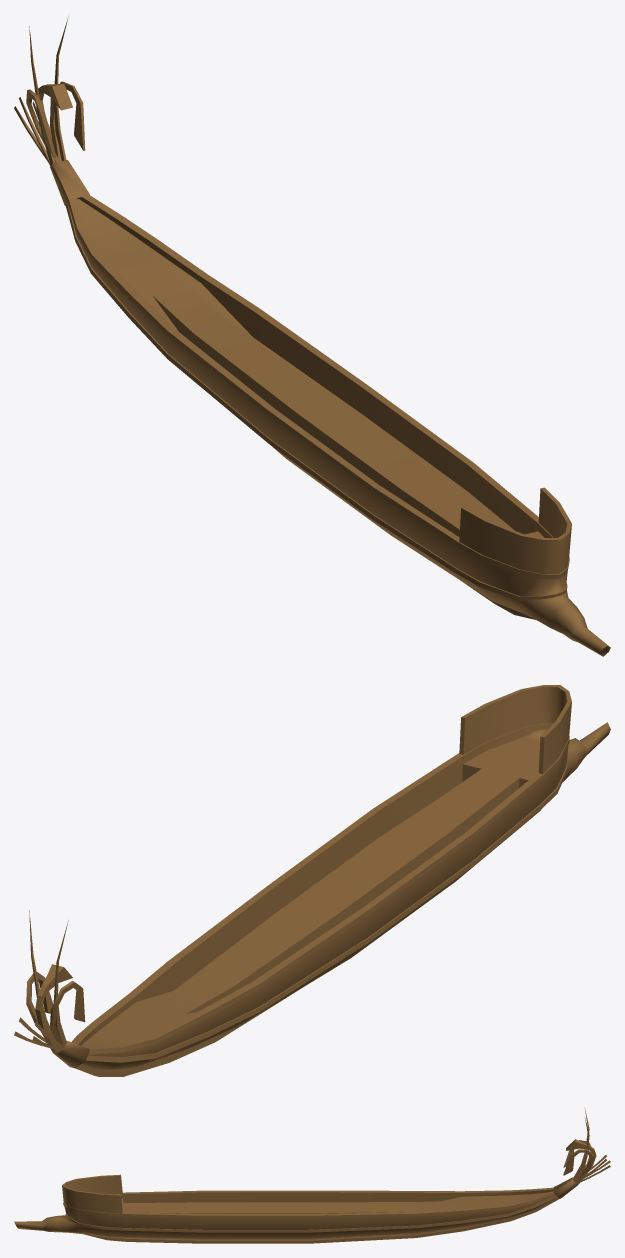
The model's file is pers_bir.dae.
3 views of the same model, one above another, from view 1: azimuth 30°, elevation 25°; view 2: azimuth 150°, elevation 25°; view 3: azimuth 270°, elevation 25° (orthographic). The views are drawn at different scales.
Visible parts, largest first — view 1: ShipBody_000; view 2: ShipBody_000; view 3: ShipBody_000.
Part boxes in pixels (x1,y1,x2,y2): ShipBody_000: [14, 16, 610, 656]; ShipBody_000: [14, 685, 610, 1076]; ShipBody_000: [14, 1107, 610, 1243].
Size of the model in its own units: 4.29 by 43.16 by 10.61.
